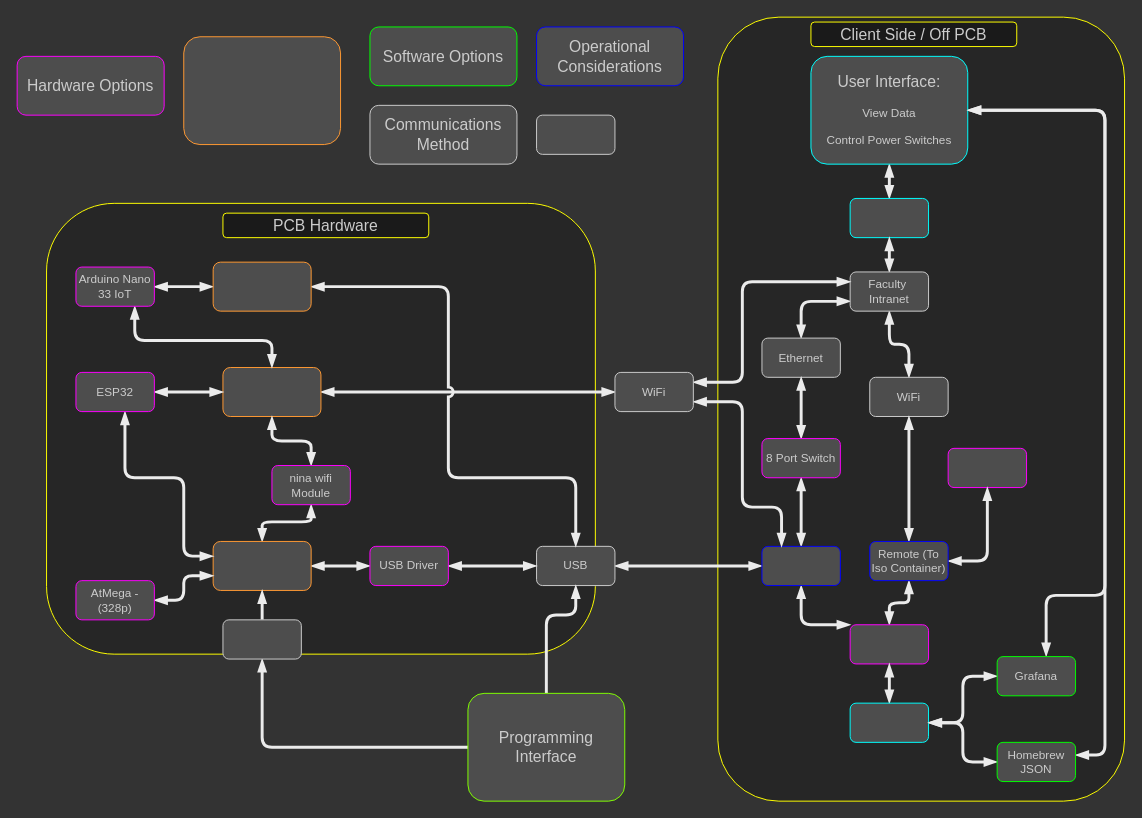
This 1142x818 diagram has some shape labels left out. Each missing label, with the box of its shape:
5 Port Switch: (947, 447, 1027, 488)
Controller for: Current Sensing Voltage Sensing Power Switch Actuation: (183, 36, 341, 145)
Integrated Development Board: (212, 261, 311, 311)
ISP: (222, 619, 301, 659)
JSON: (536, 114, 615, 154)
Local (To ISO Container): (761, 545, 840, 586)
PCB/Integrated MCU: (212, 540, 311, 590)
Raspberry Pi: (849, 624, 929, 664)
User PC: (849, 197, 929, 238)
Web Interface: (849, 702, 929, 742)
WiFi Enabled Device: (222, 367, 321, 416)
